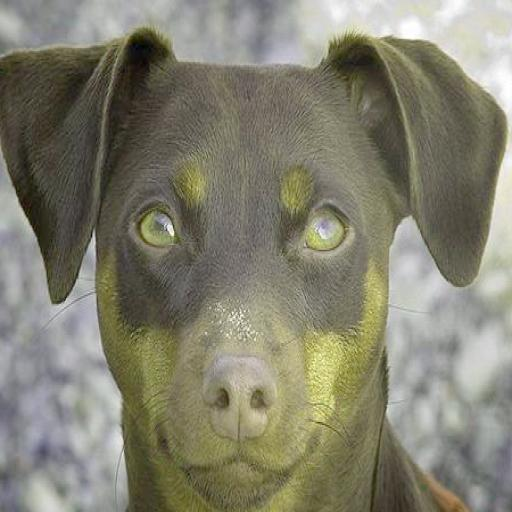dog_face: (0, 31, 505, 472)
